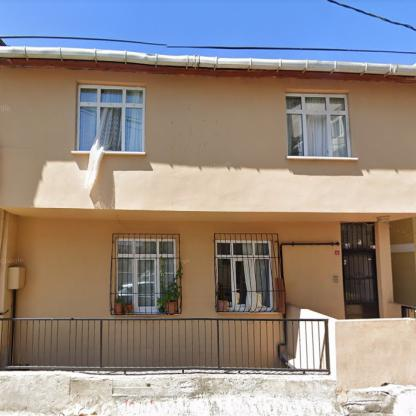door: (346, 254, 378, 316)
window: (115, 239, 175, 312), (76, 86, 142, 151), (287, 96, 347, 155), (218, 243, 267, 307), (342, 224, 372, 246)
